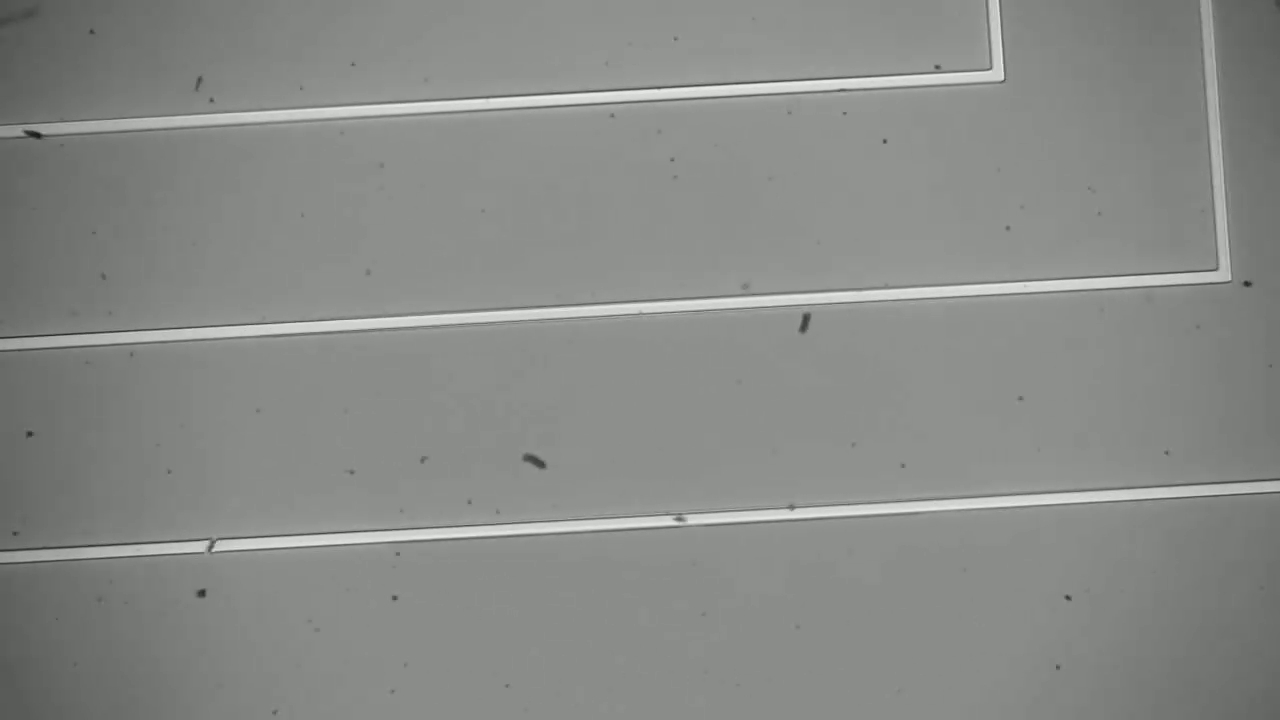open: (197, 529, 225, 559)
stains_enbedded: (12, 116, 53, 148), (668, 504, 690, 534)
